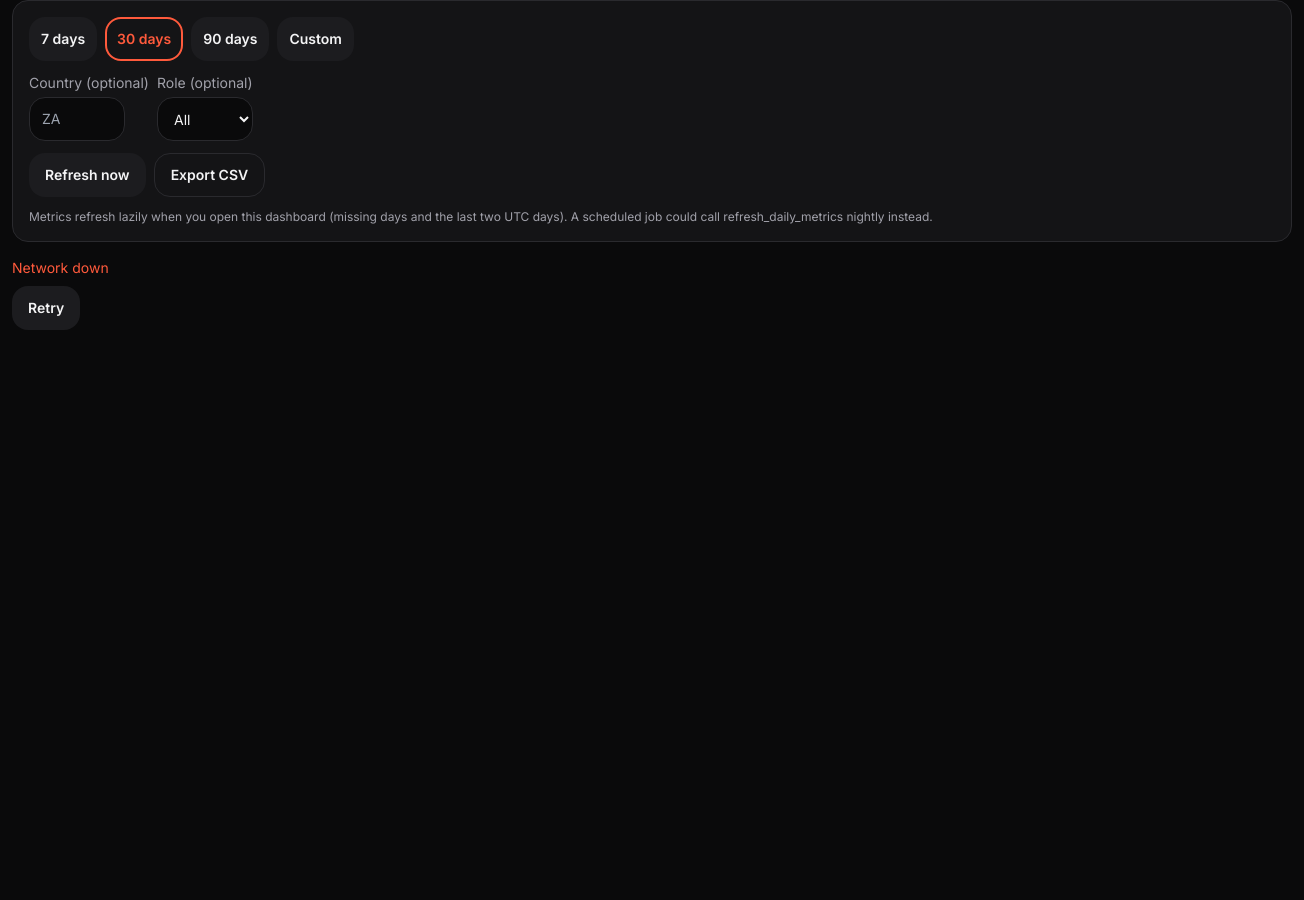
FounderAnalyticsPanel › shows error with Retry
Expected: the message reads "Network down", top-left (12, 259), bottom-right (109, 276)
Click the button "Retry" at [46, 308], box top-left (12, 286), bottom-right (80, 330)
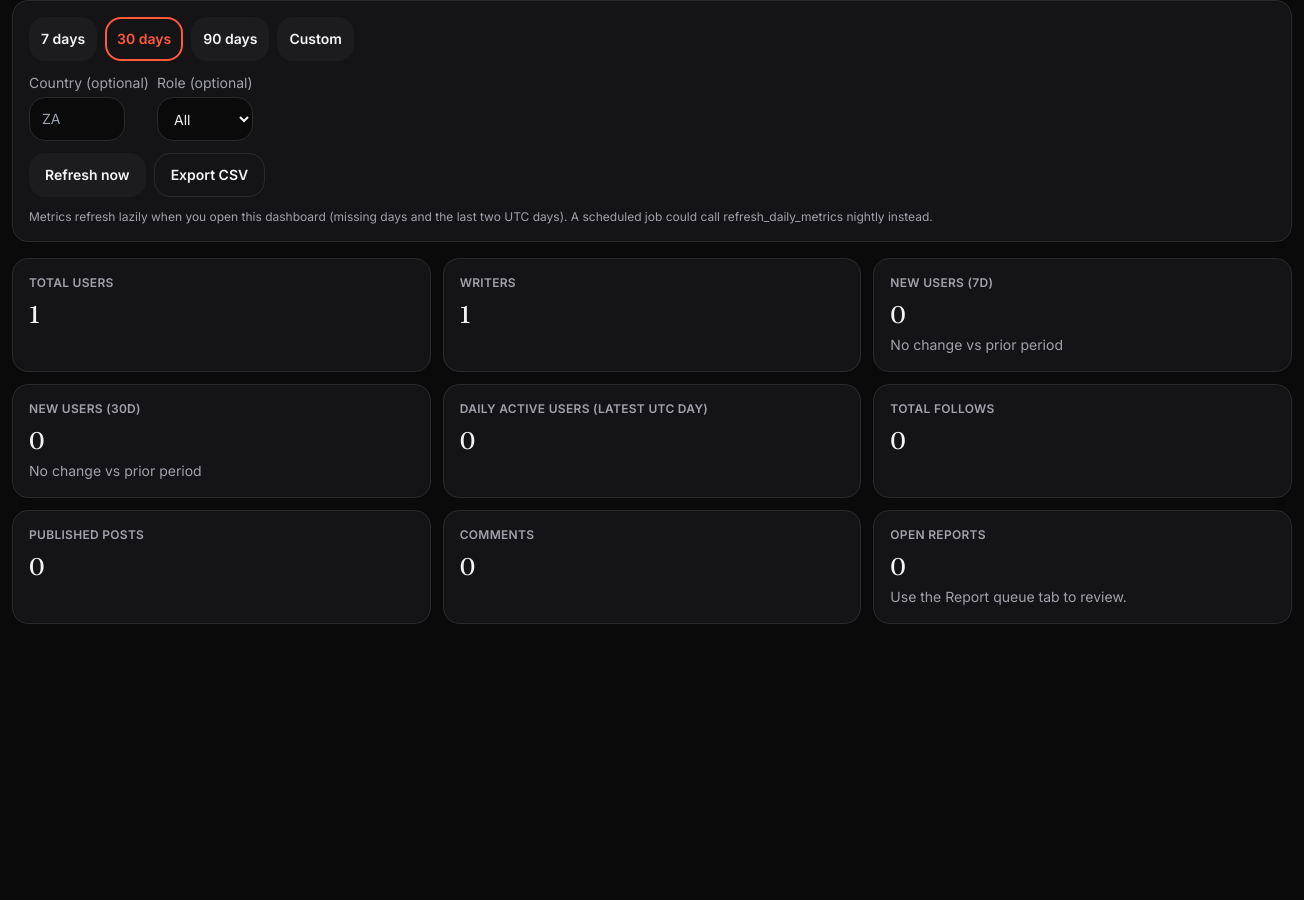
Result: the element with test id "metric-total-users" is shown at top-left (12, 258), bottom-right (431, 372)
